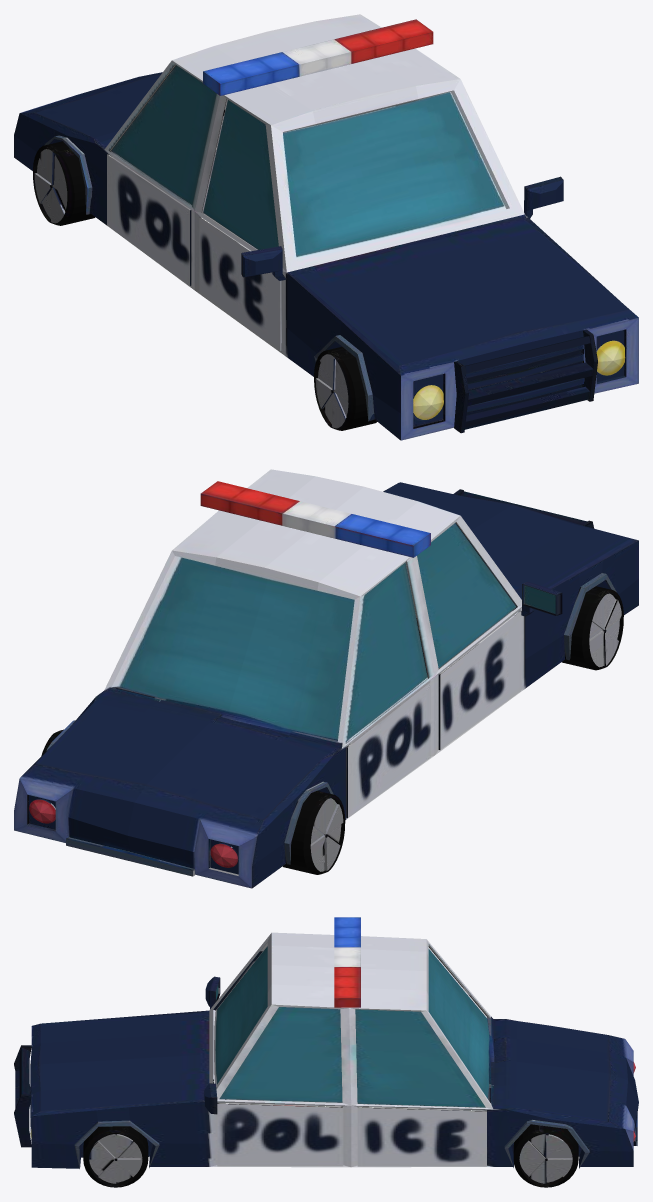
Rendered from Chief_colored.fbx.
The picture shows the model from 3 angles, top to bottom: view 1: azimuth 30°, elevation 25°; view 2: azimuth 150°, elevation 25°; view 3: azimuth 270°, elevation 25°; orthographic projection. The views are drawn at different scales.
Parts seen in each view (by area): view 1: policecarbody, wheelb1, wheelfront2; view 2: policecarbody, wheelb1, wheelfront2; view 3: policecarbody, wheelb2, wheelfront1.
Part boxes in pixels (bbox=[...]): policecarbody: bbox=[14, 14, 638, 440]; wheelb1: bbox=[33, 141, 95, 225]; wheelfront2: bbox=[314, 347, 377, 430]; policecarbody: bbox=[14, 469, 638, 888]; wheelb1: bbox=[282, 791, 345, 874]; wheelfront2: bbox=[562, 586, 623, 670]; policecarbody: bbox=[14, 917, 638, 1168]; wheelb2: bbox=[513, 1124, 578, 1187]; wheelfront1: bbox=[83, 1126, 148, 1187].
Size of the model in its own units: 523 by 363 by 1138.
